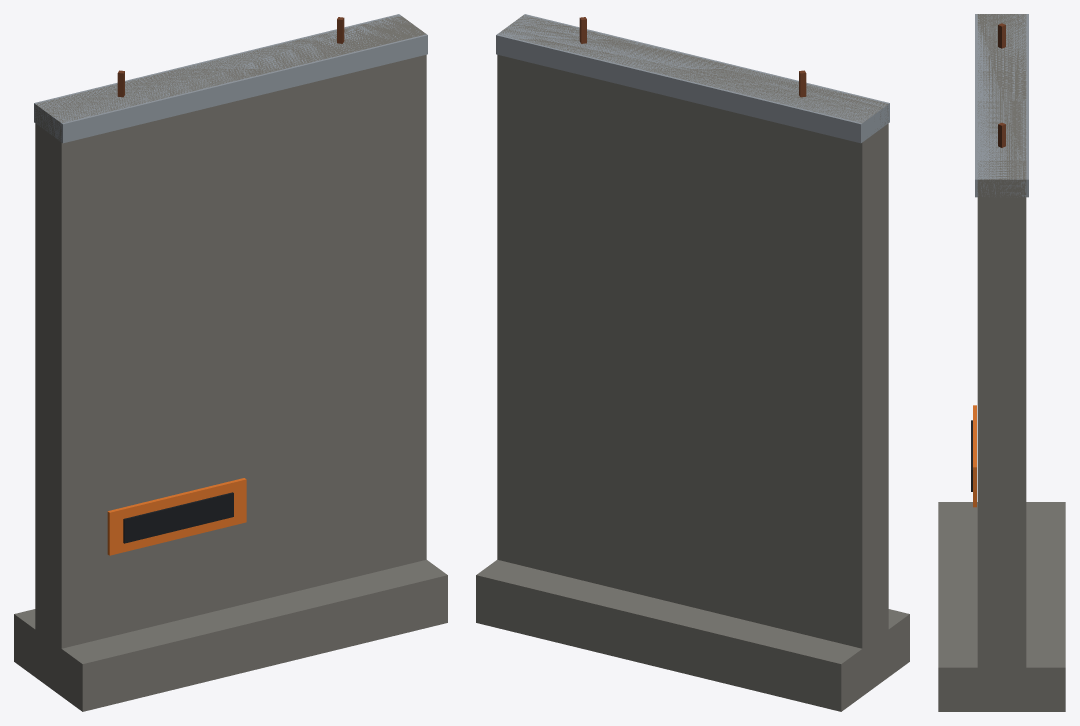
The model's file is env_twall.fbx.
3 renders of one model, left to right at view 1: azimuth 30°, elevation 25°; view 2: azimuth 150°, elevation 25°; view 3: azimuth 270°, elevation 25°, orthographic. The views are drawn at different scales.
Visible parts, largest first — view 1: env_twall; view 2: env_twall; view 3: env_twall.
Part boxes in pixels (x1,y1,x2,y2): env_twall: [14, 14, 447, 711]; env_twall: [476, 14, 909, 711]; env_twall: [938, 14, 1065, 711].
Bounding box in the file's own units: 800 × 1250 × 260.
